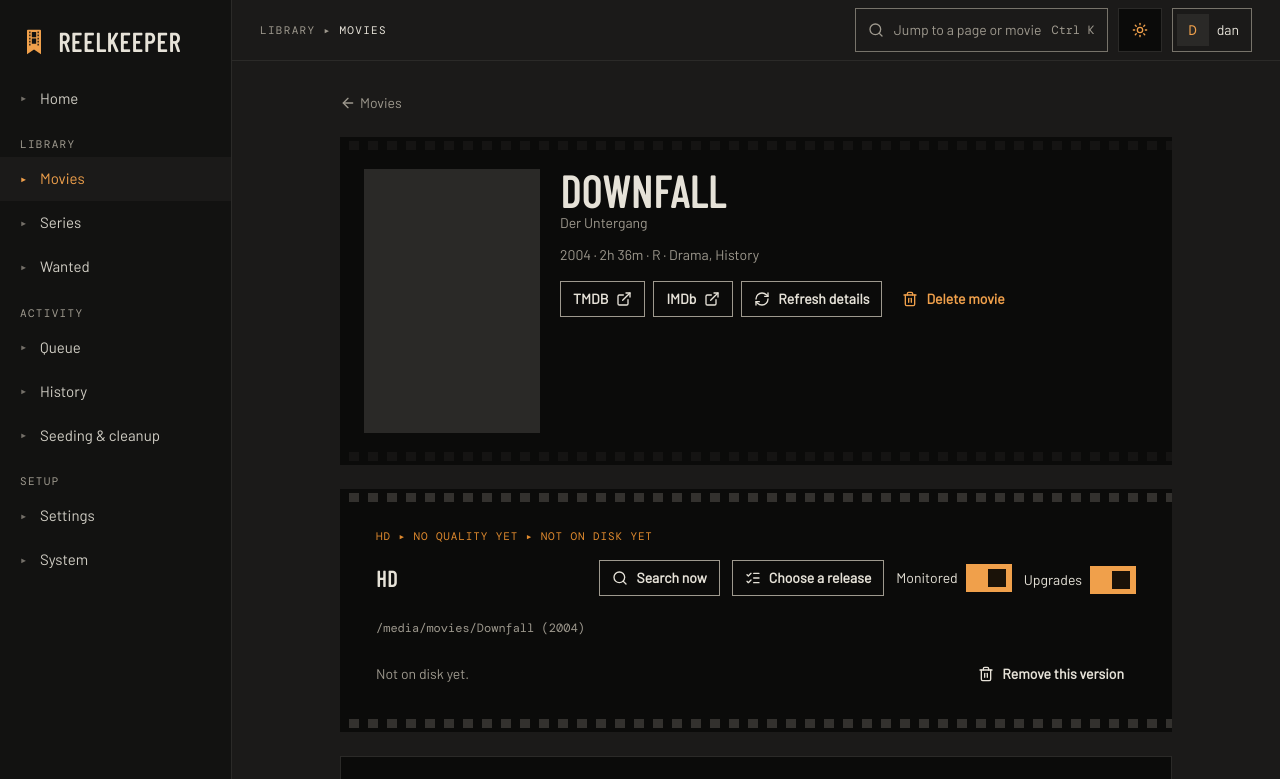
Test case: Choose a release › searches only when asked and lists accepted releases first, then the misses with why
expect the heading "Downfall" is shown: met, box 560,164 -> 726,217
Step 1. Click the button "Choose a release" → x=808, y=578, box 732,560 -> 884,596
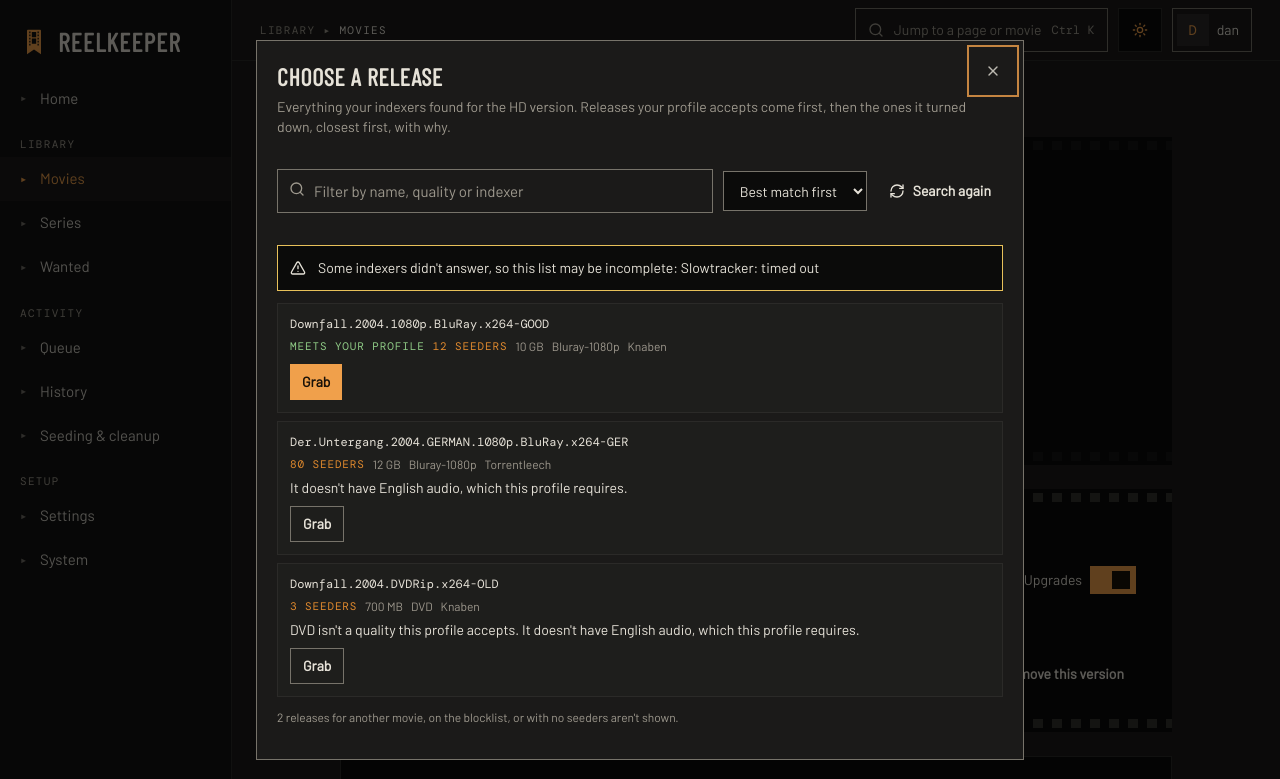
expect the text "Downfall.2004.1080p.BluRay.x264-GOOD" is shown: met, box 290,316 -> 549,332
expect the text "Meets your profile" is shown: met, box 290,336 -> 425,356
expect the text "80 seeders" is shown: met, box 290,454 -> 365,474
